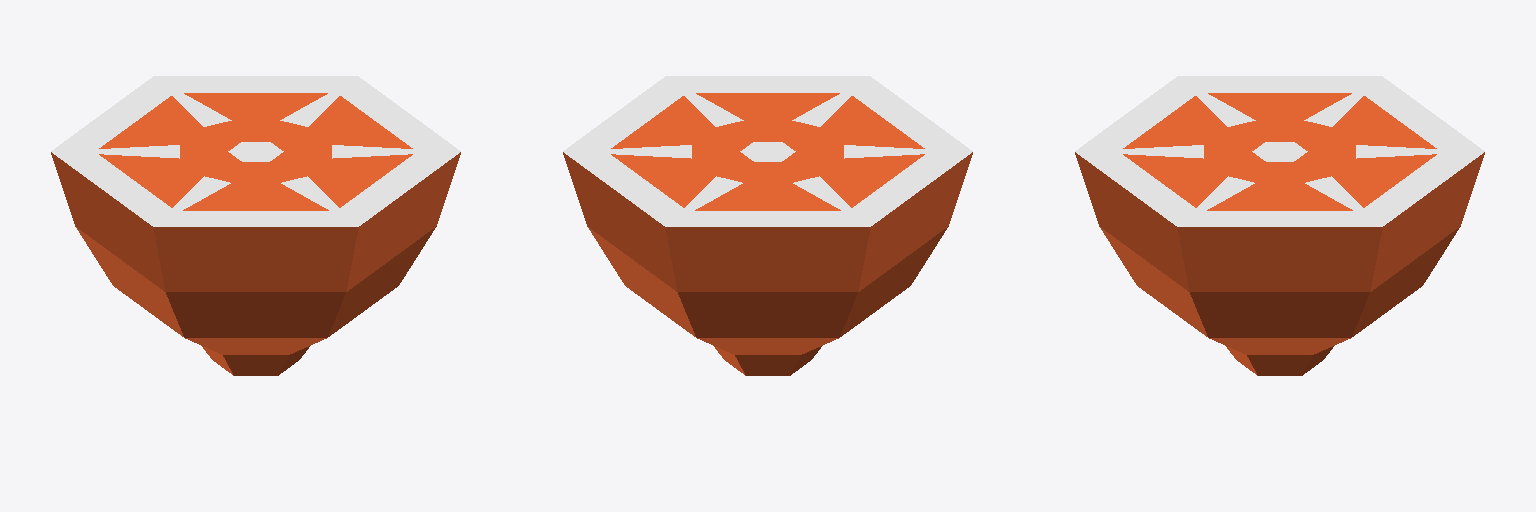
Rendered from orangeHalf.obj.
3 renders of one model, left to right at view 1: azimuth 30°, elevation 25°; view 2: azimuth 150°, elevation 25°; view 3: azimuth 270°, elevation 25°, orthographic.
Parts seen in each view (by area): view 1: orangeHalf; view 2: orangeHalf; view 3: orangeHalf.
Part boxes in pixels (x1,y1,x2,y2): orangeHalf: (51, 76, 460, 375); orangeHalf: (563, 76, 972, 375); orangeHalf: (1075, 76, 1484, 375).
Bounding box in the file's own units: 0.1732 × 0.112 × 0.2.